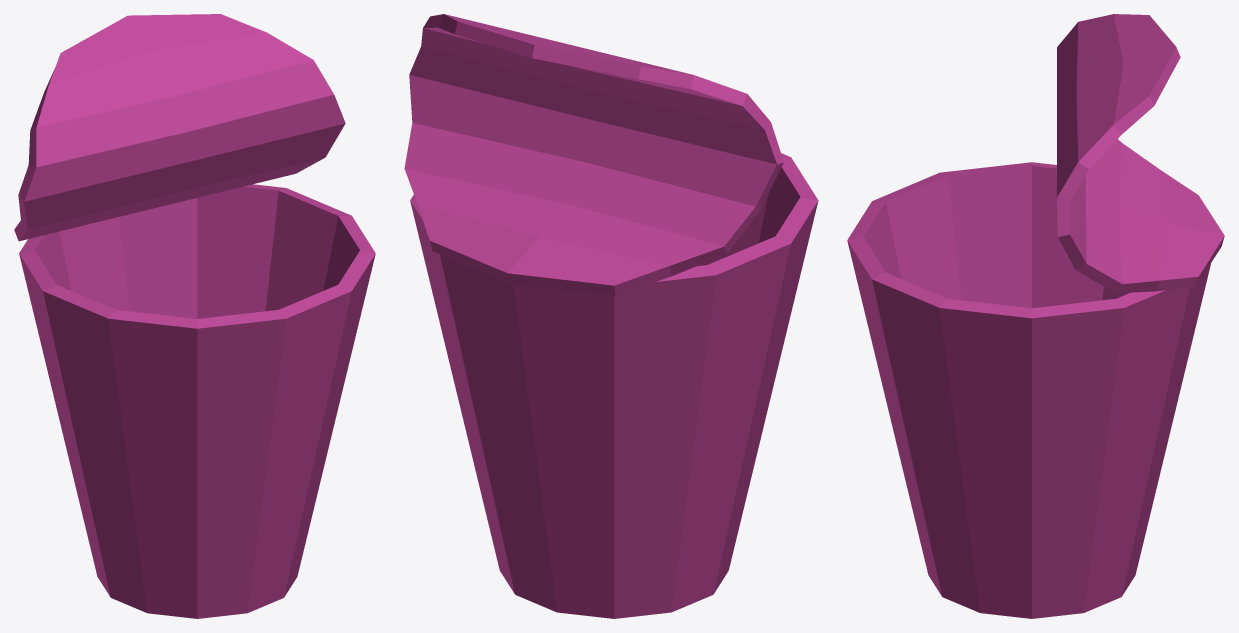
The model's file is Fideos_Inst.fbx.
3 renders of one model, left to right at view 1: azimuth 30°, elevation 25°; view 2: azimuth 150°, elevation 25°; view 3: azimuth 270°, elevation 25°, orthographic. The views are drawn at different scales.
Visible parts, largest first — view 1: Yatekomo_recipiente, Yetekomo_tapa; view 2: Yatekomo_recipiente, Yetekomo_tapa; view 3: Yatekomo_recipiente, Yetekomo_tapa.
Part boxes in pixels (x1,y1,x2,y2): Yatekomo_recipiente: [19, 184, 375, 618]; Yetekomo_tapa: [14, 14, 345, 241]; Yatekomo_recipiente: [410, 153, 818, 618]; Yetekomo_tapa: [404, 14, 783, 295]; Yatekomo_recipiente: [847, 162, 1210, 618]; Yetekomo_tapa: [1057, 14, 1224, 293].
Size of the model in its own units: 11.61 by 17.61 by 11.4.
